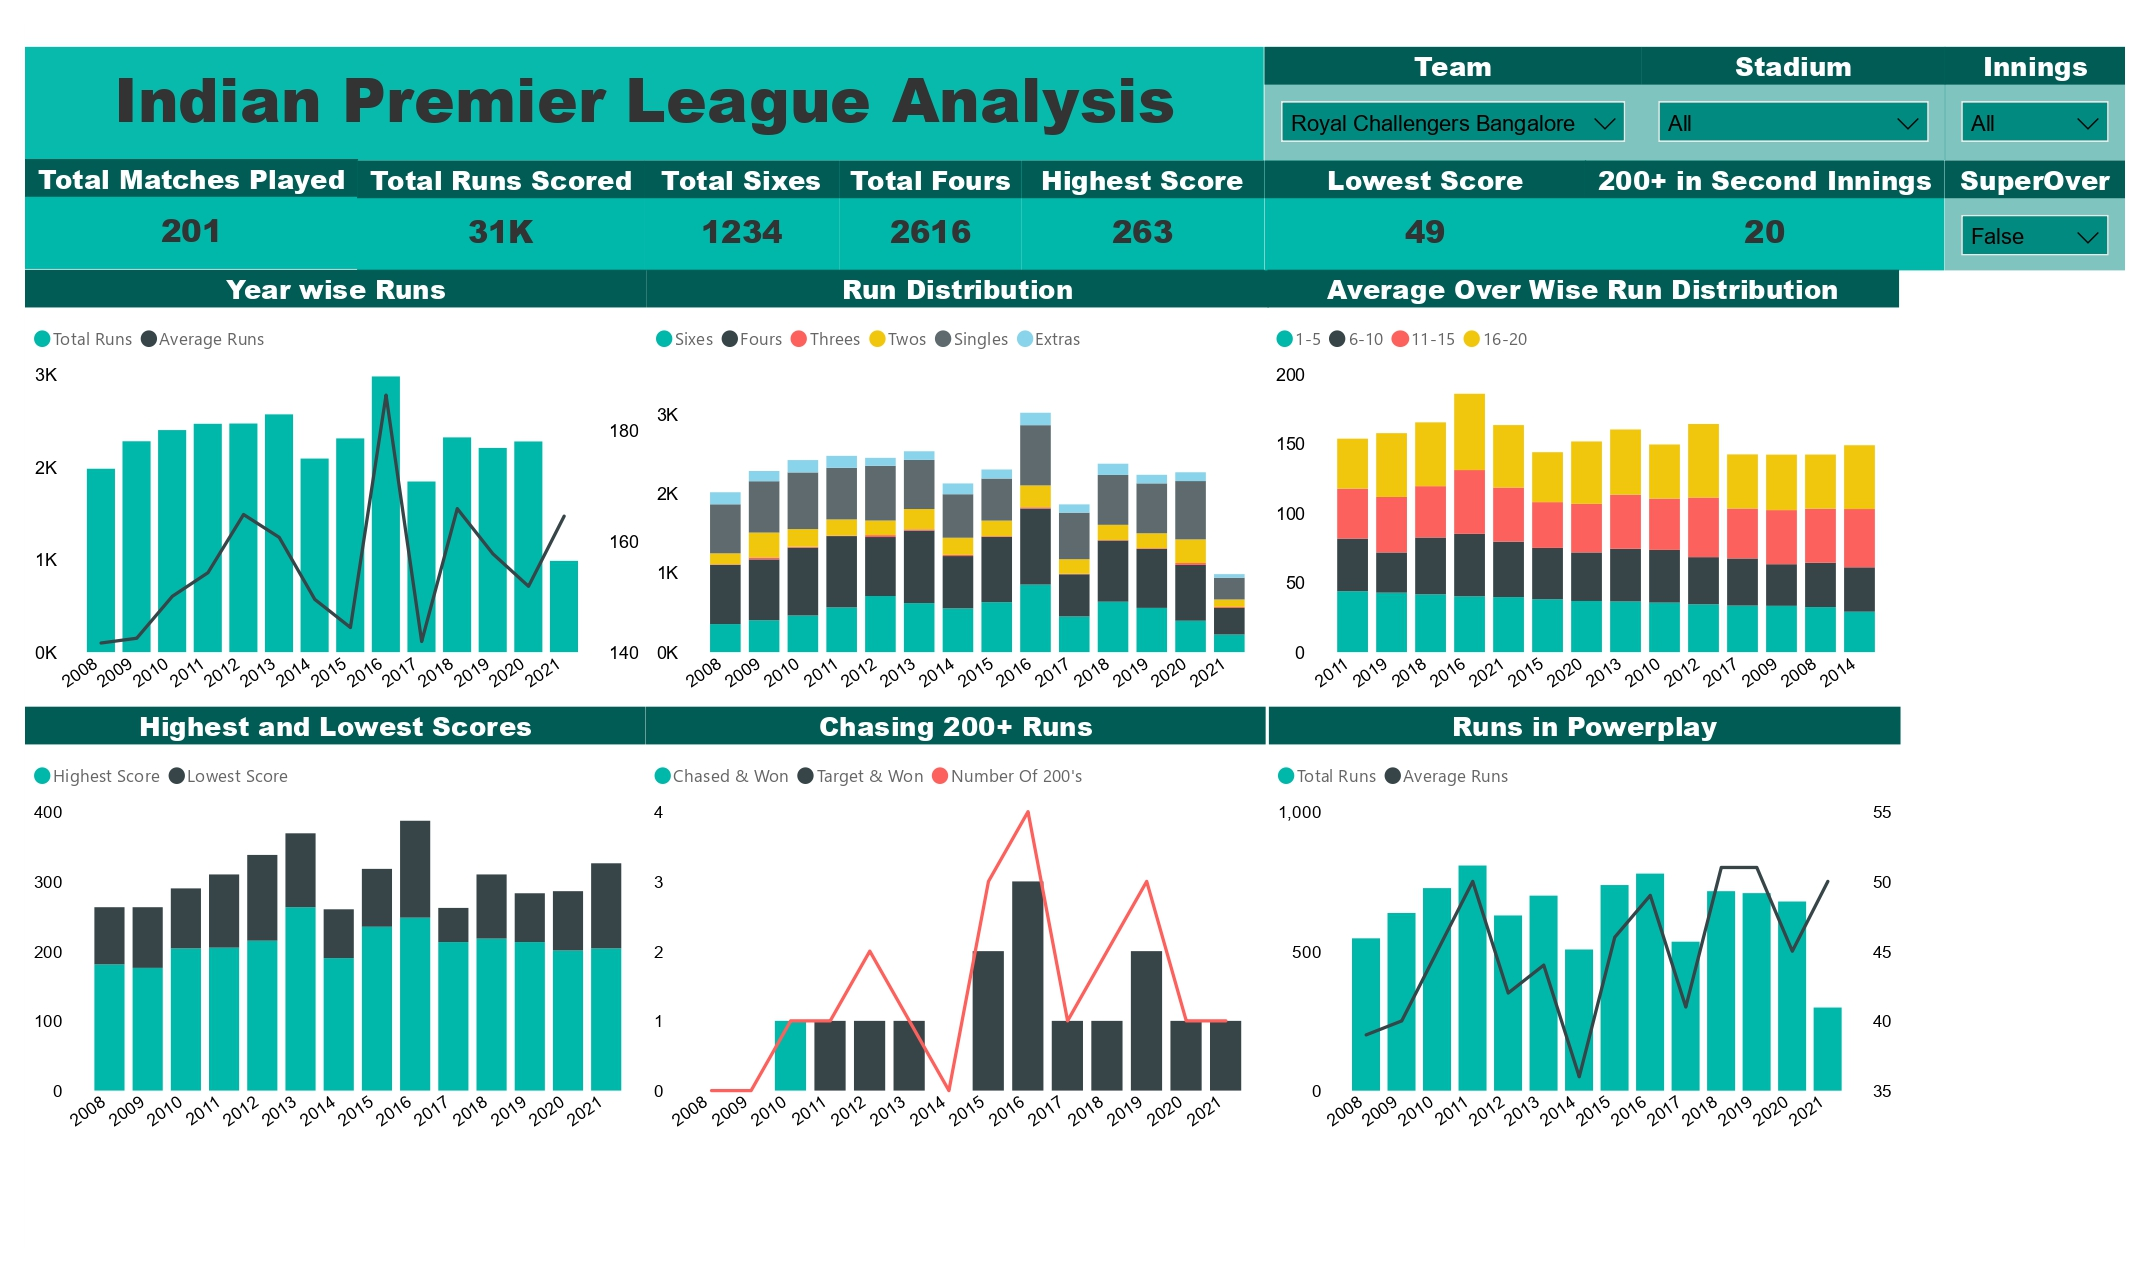

This screenshot's page, from the dashboard's own definition file:
{"tool":"powerbi","page":{"name":"Run Analysis","canvas":[1280,720],"ordinal":1},"visuals":[{"type":"textbox","box":[0,0,755.1,68.6],"z":0},{"type":"slicer","title":"Team","fields":{"Values":["Teams Info.Teams"]},"box":[755.1,0,229.9,69],"z":1000},{"type":"slicer","title":"Stadium","fields":{"Values":["Match Info.Venue"]},"box":[985,0,185.1,69],"z":2000},{"type":"card","title":"Total Matches Played","fields":{"Values":["Ball by Ball Info.Total Matches Played"]},"box":[0,68.6,202.7,67.1],"z":3000},{"type":"card","title":"Highest Score","fields":{"Values":["Ball by Ball Info.HighestScore"]},"box":[607.5,69,147.6,66.6],"z":4000},{"type":"card","title":"Total Runs Scored","fields":{"Values":["Ball by Ball Info.TotalRuns"]},"box":[202.1,69,175.5,66.6],"z":5000},{"type":"card","title":"Total Sixes","fields":{"Values":["Ball by Ball Info.Total Sixes2"]},"box":[377.5,69,118.6,66.6],"z":6000},{"type":"card","title":"Total Fours","fields":{"Values":["Ball by Ball Info.Total Fours2"]},"box":[496.1,69,111.3,66.6],"z":7000},{"type":"columnChart","title":"Run Distribution","fields":{"Y":["Ball by Ball Info.Sum Sixes","Ball by Ball Info.Sum Fours","Ball by Ball Info.Sum Threes","Ball by Ball Info.Sum Twos","Ball by Ball Info.Sum Singles","Ball by Ball Info.Total Extras2"],"Category":["Match Info.Year"]},"box":[378.8,135.5,378.8,266.2],"z":8000},{"type":"lineClusteredColumnComboChart","title":"Year wise Runs","fields":{"Category":["Match Info.Year"],"Y2":["Ball by Ball Info.AvgRuns"],"Y":["Ball by Ball Info.TotalRuns2"]},"box":[0,135.5,378.8,266.2],"z":9000},{"type":"columnChart","title":"Highest and Lowest Scores","fields":{"Category":["Match Info.Year"],"Y":["Ball by Ball Info.HighestScore","Ball by Ball Info.LowestScore"]},"box":[0,402.3,378.4,266.6],"z":10000},{"type":"lineStackedColumnComboChart","title":"Chasing 200+ Runs","fields":{"Category":["Match Info.Year"],"Y":["Match Info.Chasing200","Match Info.NotChasing200"],"Y2":["Ball by Ball Info.NumberOf200's"]},"box":[378.4,402.3,378.4,266.6],"z":11000},{"type":"card","title":"Lowest Score","fields":{"Values":["Ball by Ball Info.FirstInnings200"]},"box":[755.1,69,196,66.6],"z":12000},{"type":"card","title":"200+ in Second Innings","fields":{"Values":["Ball by Ball Info.SecondInnings200"]},"box":[951.1,69,219,66.6],"z":13000},{"type":"columnChart","title":"Average Over Wise Run Distribution","fields":{"Y":["Ball by Ball Info.Over5Score","Ball by Ball Info.Over10Score","Ball by Ball Info.Over15Score","Ball by Ball Info.Over20Score"],"Category":["Match Info.Year"]},"box":[757.5,135.5,384.8,266.2],"z":14000},{"type":"lineClusteredColumnComboChart","title":"Runs in Powerplay","fields":{"Category":["Match Info.Year"],"Y":["Ball by Ball Info.TotalPowerPlayRuns"],"Y2":["Ball by Ball Info.AvgPowerPlayRuns"]},"box":[758,402,385,267],"z":15000},{"type":"slicer","title":"Innings","fields":{"Values":["Ball by Ball Info.Innings2"]},"box":[1169.9,0,110.1,69],"z":16000},{"type":"slicer","title":"SuperOver","fields":{"Values":["Ball by Ball Info.SuperOver"]},"box":[1169.9,69,110.1,66.6],"z":17000}]}

Visuals, with their boxes on the page's 1280x720 design canvas (x1, y1, x2, y2). These are canvas units, not pixel positions in the 2150x1275 screenshot, which may show the page scaled, cropped or inside an application window:
textbox: 0, 0, 755, 69
"Team" slicer: 755, 0, 985, 69
"Stadium" slicer: 985, 0, 1170, 69
"Total Matches Played" card: 0, 69, 203, 136
"Highest Score" card: 608, 69, 755, 136
"Total Runs Scored" card: 202, 69, 378, 136
"Total Sixes" card: 378, 69, 496, 136
"Total Fours" card: 496, 69, 607, 136
"Run Distribution" columnChart: 379, 136, 758, 402
"Year wise Runs" lineClusteredColumnComboChart: 0, 136, 379, 402
"Highest and Lowest Scores" columnChart: 0, 402, 378, 669
"Chasing 200+ Runs" lineStackedColumnComboChart: 378, 402, 757, 669
"Lowest Score" card: 755, 69, 951, 136
"200+ in Second Innings" card: 951, 69, 1170, 136
"Average Over Wise Run Distribution" columnChart: 758, 136, 1142, 402
"Runs in Powerplay" lineClusteredColumnComboChart: 758, 402, 1143, 669
"Innings" slicer: 1170, 0, 1280, 69
"SuperOver" slicer: 1170, 69, 1280, 136
